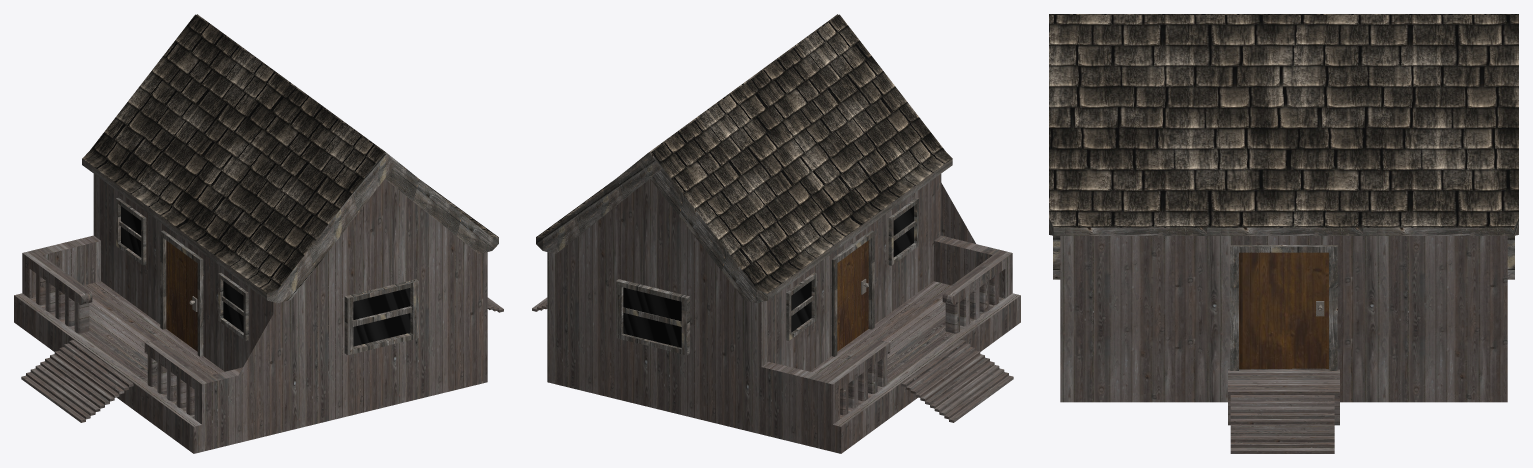
The model's file is House.FBX.
3 views of the same model, side by side, from view 1: azimuth 30°, elevation 25°; view 2: azimuth 150°, elevation 25°; view 3: azimuth 270°, elevation 25° (orthographic). The views are drawn at different scales.
Parts seen in each view (by area): view 1: StraightStair01; view 2: StraightStair01; view 3: StraightStair01.
Boxes of the visible parts, x1,y1,x2,y2 form: StraightStair01: (14,14,503,453); StraightStair01: (532,14,1020,453); StraightStair01: (1049,14,1518,453).
Size of the model in its own units: 166 by 95.58 by 126.
10 materials, 10 textured.
